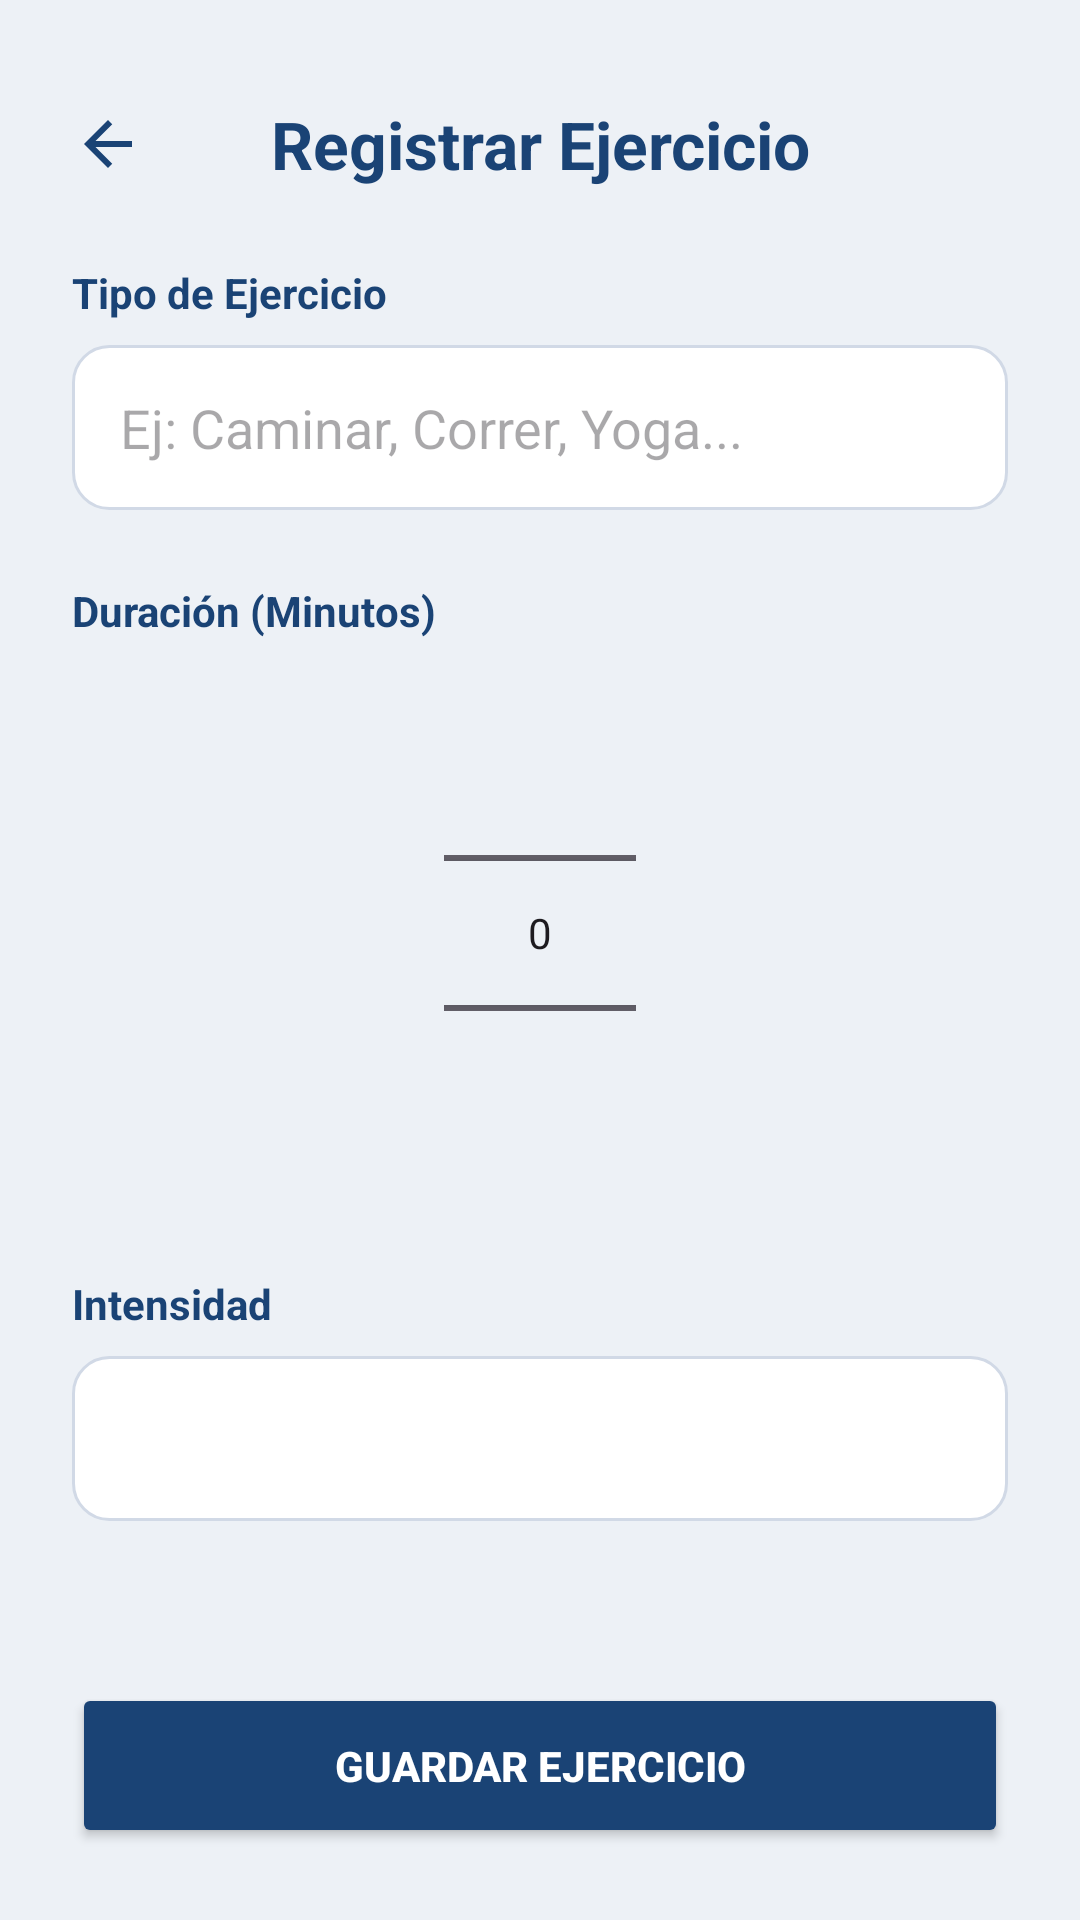

Point at icon controls on the screen. Image size 1080 x 1920, points as [x,y].
flecha regresar: [108,144]
